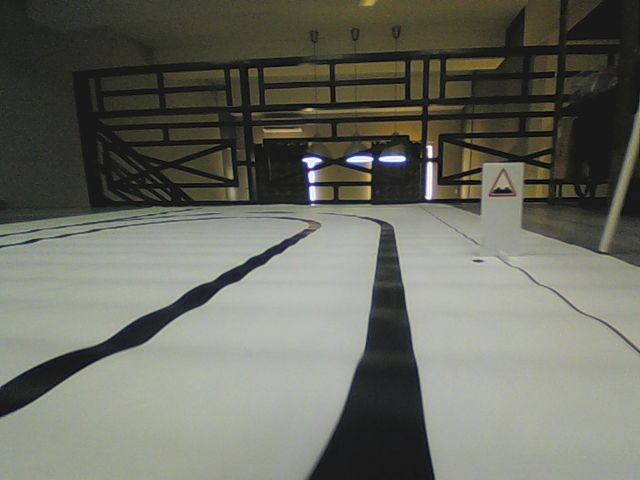Nerov: (488, 168, 516, 198)
